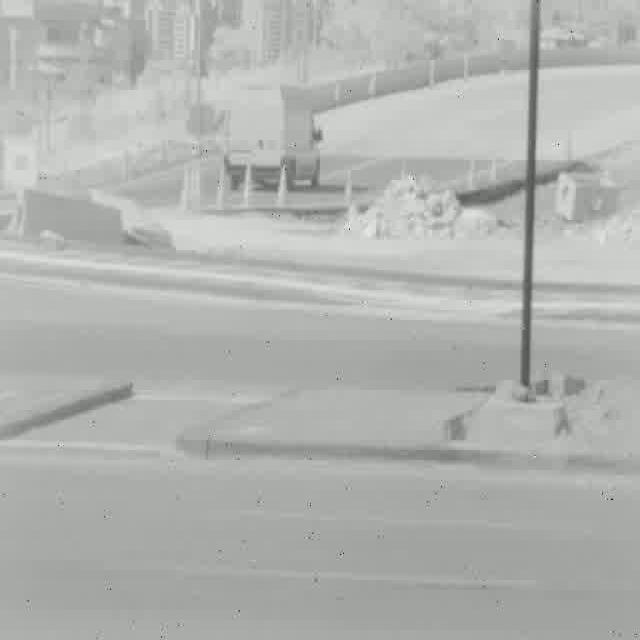Car: (222, 89, 321, 187)
